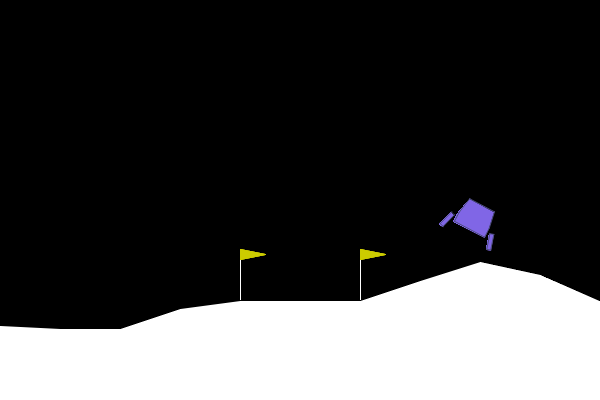lander: (437, 190, 509, 253)
